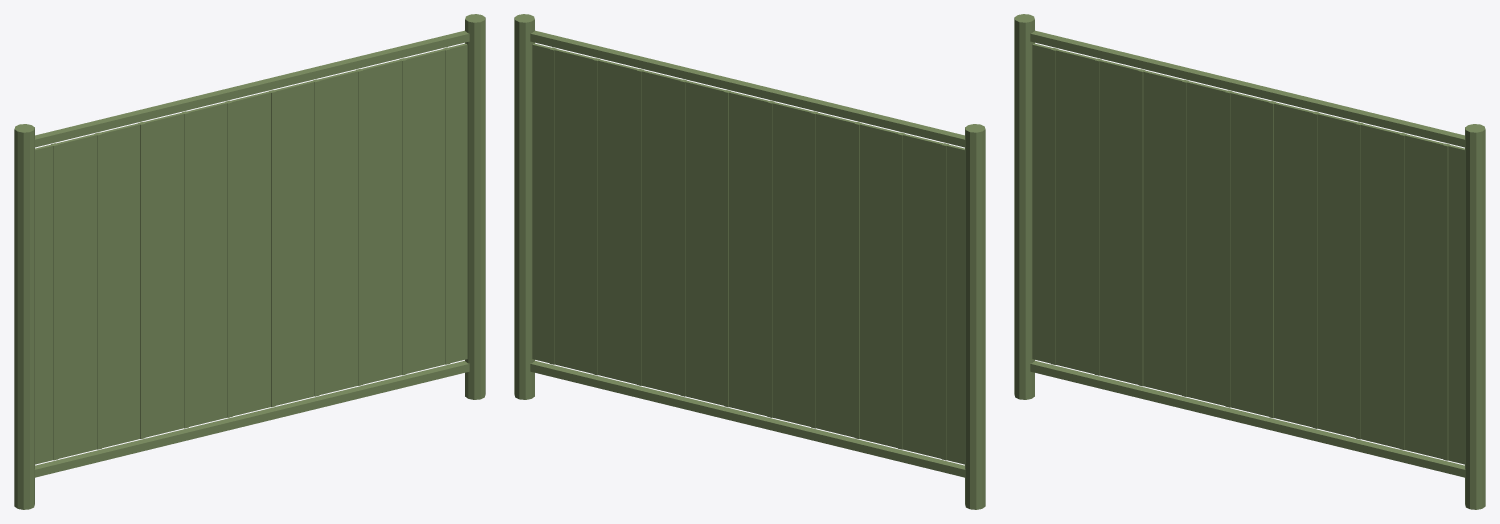
File: gen-fence-panel-mesh-1.glb
The picture shows the model from 3 angles, left to right: view 1: azimuth 30°, elevation 25°; view 2: azimuth 150°, elevation 25°; view 3: azimuth 330°, elevation 25°; orthographic projection.
Parts seen in each view (by area): view 1: gen-fence-panel-mesh-1_part1; view 2: gen-fence-panel-mesh-1_part1; view 3: gen-fence-panel-mesh-1_part1.
Part boxes in pixels (x1,y1,x2,y2): gen-fence-panel-mesh-1_part1: (14, 14, 485, 509); gen-fence-panel-mesh-1_part1: (514, 14, 985, 509); gen-fence-panel-mesh-1_part1: (1014, 14, 1485, 509).
Bounding box in the file's own units: 3114 × 2400 × 120.
